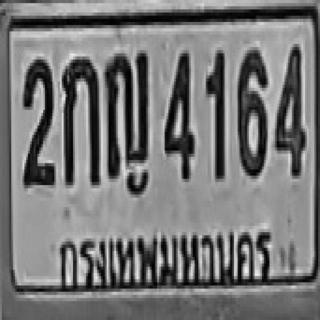A01: (62, 55, 97, 184)
A13: (103, 49, 148, 177)
N01: (204, 49, 224, 177)
N02: (22, 56, 53, 185)
N04: (273, 44, 305, 176), (163, 47, 193, 179)
N06: (236, 47, 268, 176)
P04: (54, 222, 275, 288)
